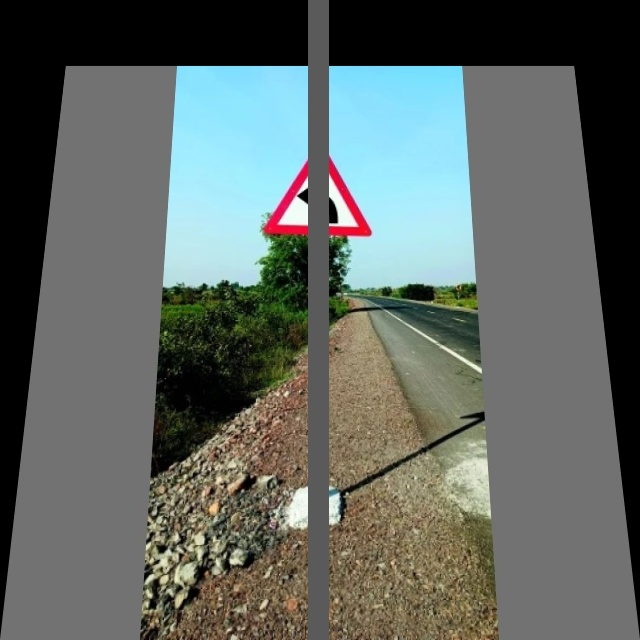Left_Hand_Curve: (269, 140, 368, 241)
